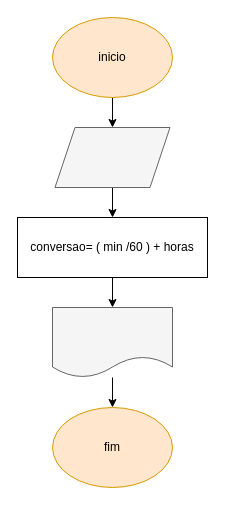
Image size: 225x505. Some labels were removed from this diagram. The shapes that lost their labels are listed below. From the top down, each one's centre as x and y in pixels, then its label:
(112,157): horas, min
(112,342): conversao
